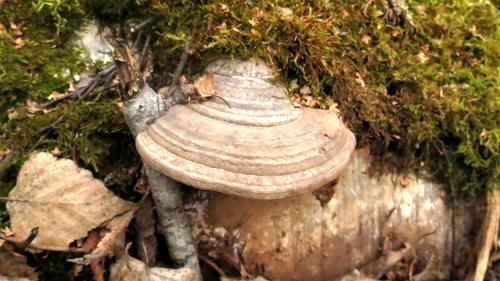Ganoderma - Fruit Body: (141, 58, 358, 199)
